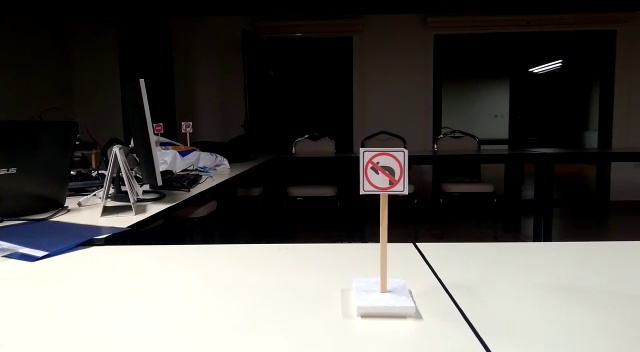sola_donulmez: (361, 150, 404, 193)
